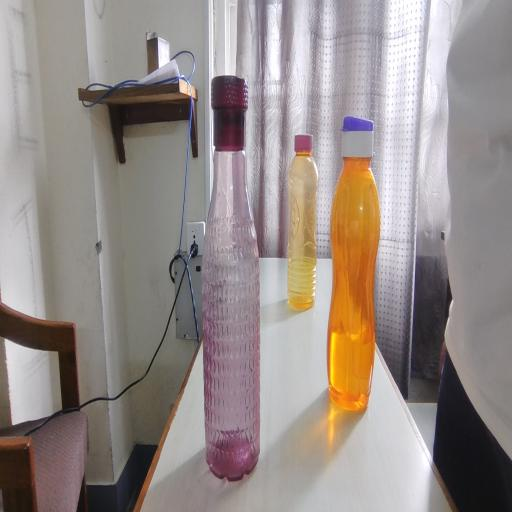Bottle: (205, 56, 274, 473), (327, 101, 390, 410), (286, 130, 332, 305)
